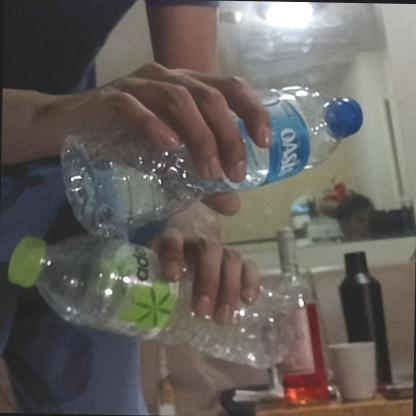plastic_bottles: (56, 80, 362, 238), (3, 230, 302, 373)
